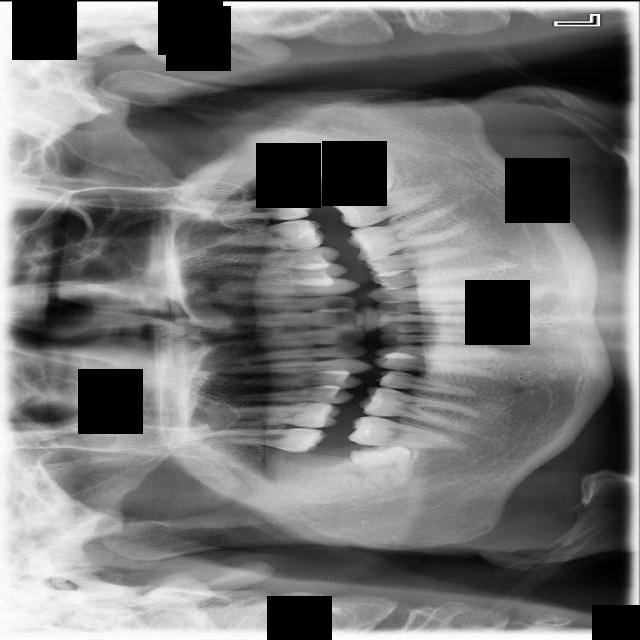73: (548, 32, 562, 36)
BioHorizons Implant: (190, 190, 314, 222)
Biomet 3i Implant: (333, 148, 398, 194)
Blue Sky Bio Implant: (330, 179, 447, 231)
Caries: (202, 427, 326, 452)
Implant: (346, 413, 469, 454)
Keystone Dental Implant: (349, 440, 414, 487)
